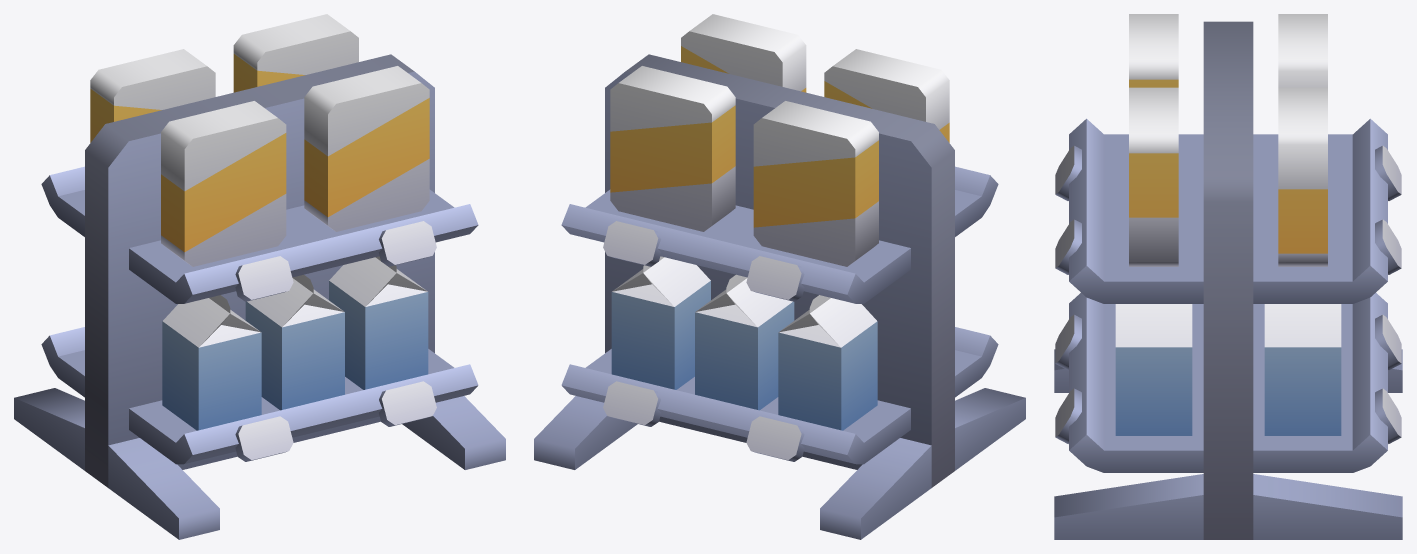
The model's file is shelf-boxes.glb.
3 renders of one model, left to right at view 1: azimuth 30°, elevation 25°; view 2: azimuth 150°, elevation 25°; view 3: azimuth 270°, elevation 25°, orthographic. The views are drawn at different scales.
Visible parts, largest first — view 1: shelf-boxes, box (×4), carton (×3); view 2: shelf-boxes, box (×4), carton (×3); view 3: shelf-boxes, box (×4), carton (×2).
Boxes of the visible parts, <box> form: shelf-boxes: <box>14,54,505,539</box>; box (×4): <box>90,14,429,266</box>; carton (×3): <box>162,256,428,430</box>; shelf-boxes: <box>534,54,1025,539</box>; box (×4): <box>610,14,949,266</box>; carton (×3): <box>611,256,877,430</box>; shelf-boxes: <box>1054,21,1402,539</box>; box (×4): <box>1129,14,1327,266</box>; carton (×2): <box>1115,304,1341,435</box>.
Size of the model in its own units: 0.8 by 0.85 by 0.7.
Materials: 1 (1 with a texture image).
